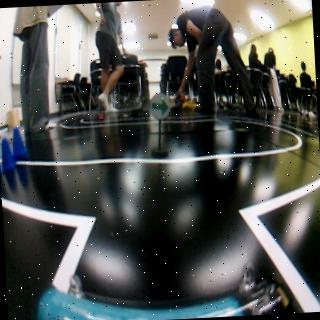right: (148, 91, 171, 120)
